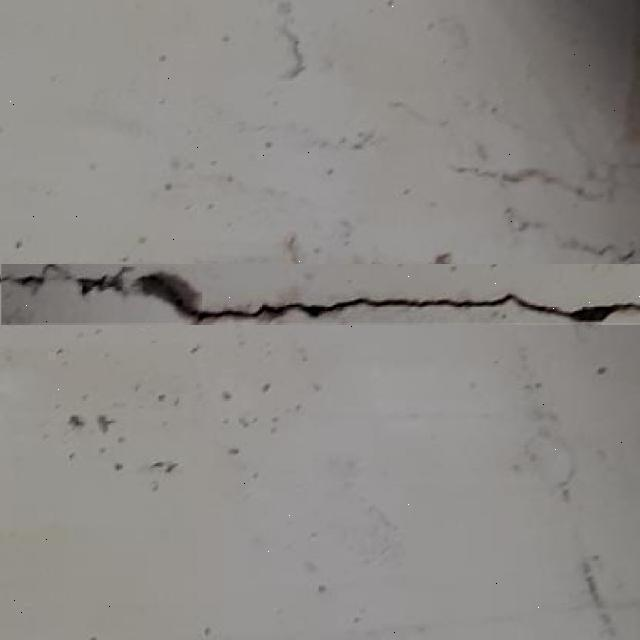crack: (0, 328, 632, 632), (1, 334, 307, 509), (0, 262, 639, 325), (287, 336, 534, 440), (509, 0, 632, 131), (139, 146, 301, 241), (534, 329, 640, 471), (7, 256, 633, 279), (0, 337, 198, 401), (220, 103, 377, 173), (262, 0, 364, 105), (266, 230, 465, 272), (471, 161, 625, 204), (554, 117, 635, 190), (36, 102, 154, 152), (531, 436, 578, 491), (553, 232, 639, 262), (389, 98, 456, 134), (2, 263, 74, 290), (427, 16, 472, 59), (257, 282, 311, 313), (502, 203, 548, 237), (2, 296, 34, 324), (275, 1, 294, 17), (475, 142, 490, 162)
dampens: (134, 271, 208, 317), (227, 301, 300, 323), (279, 26, 306, 80), (76, 270, 129, 296), (189, 305, 255, 324)
dampness: (0, 468, 257, 640), (0, 273, 30, 285)
